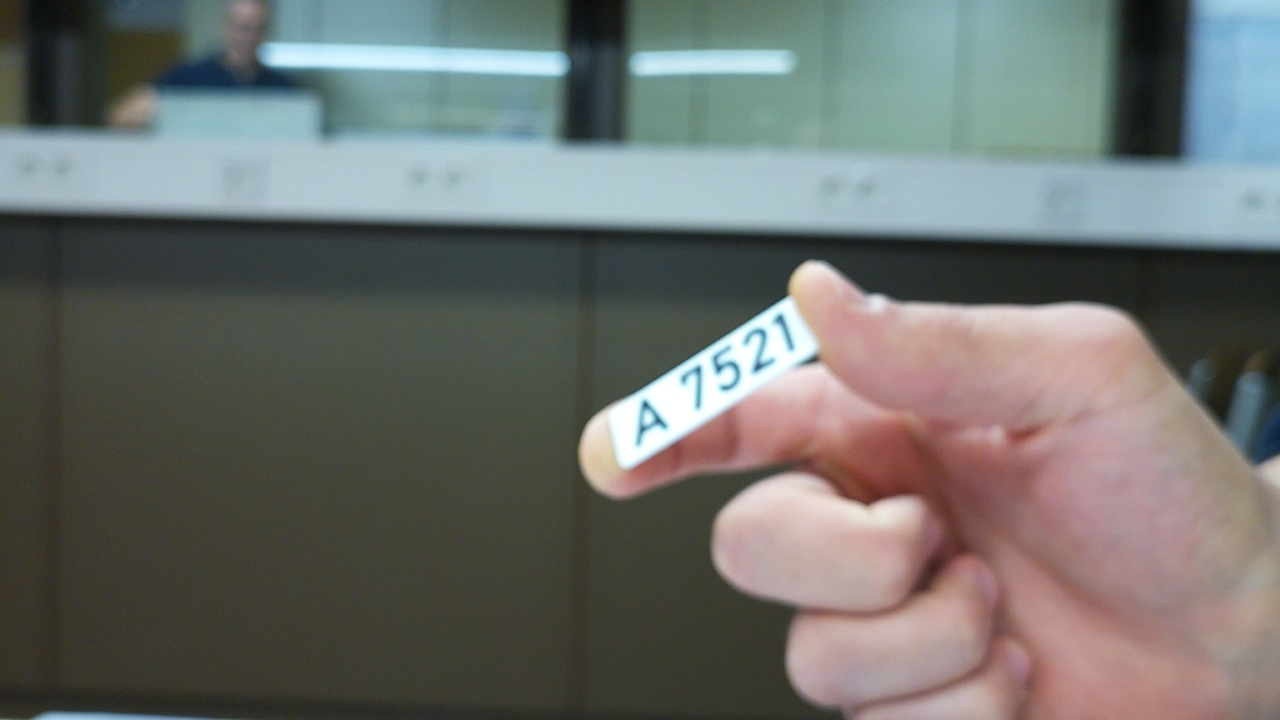license_plate: (603, 293, 823, 473)
